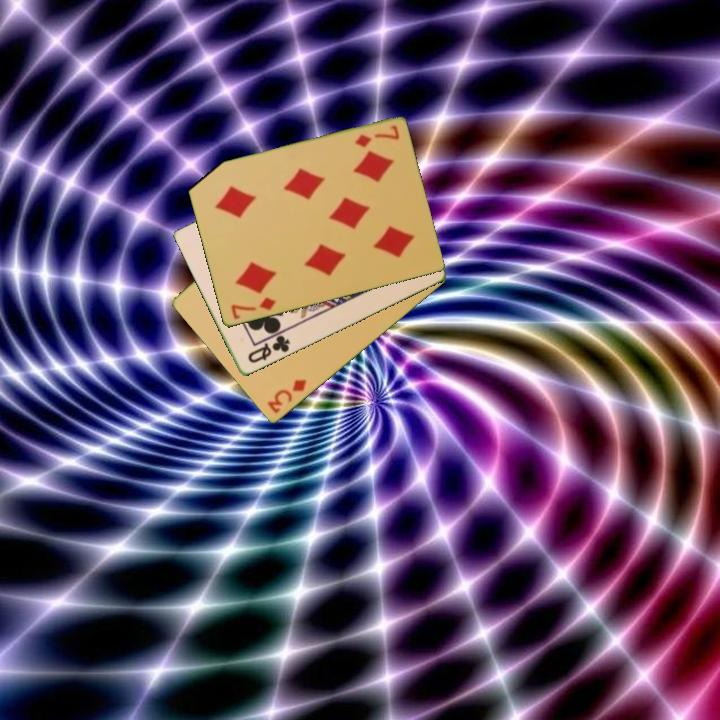3d: (263, 376, 309, 417)
7d: (227, 294, 278, 323), (351, 122, 402, 151)
Qc: (244, 332, 293, 366)
